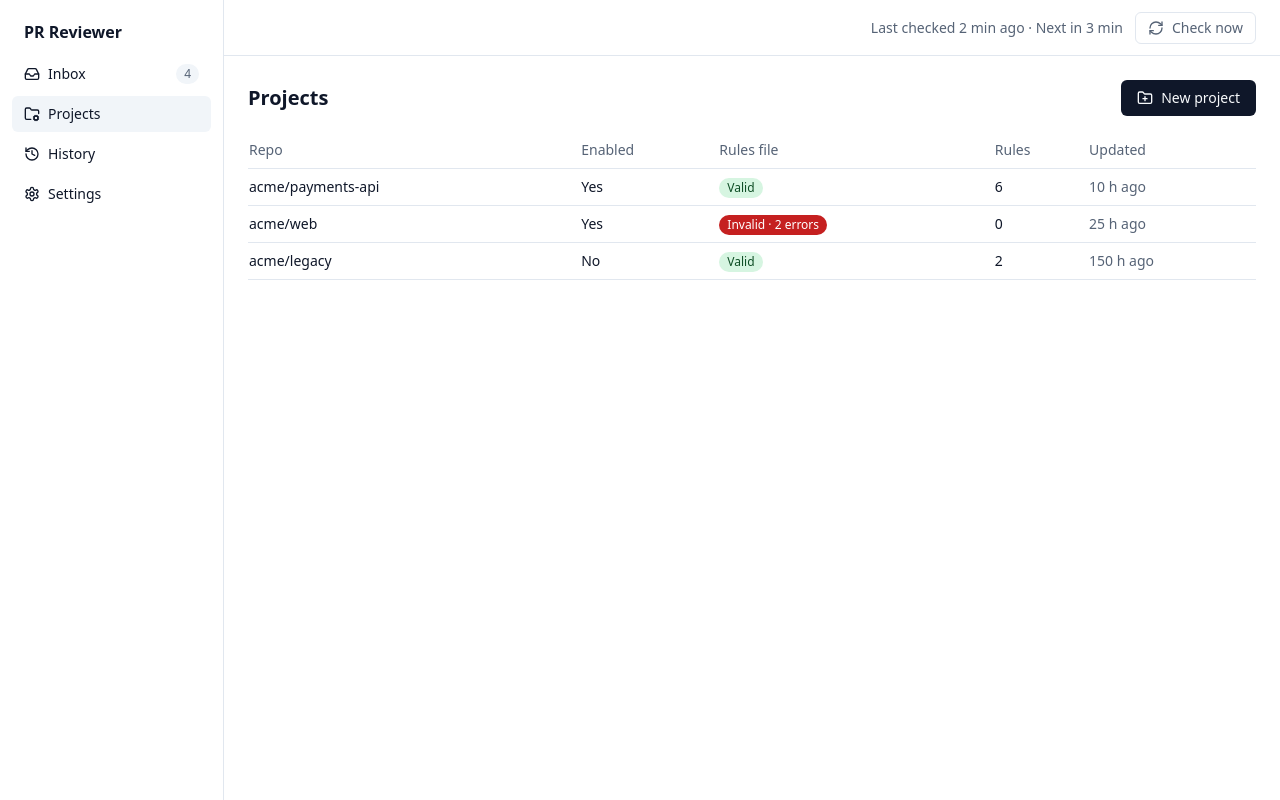
it: Projects › only accepts owner/repo and opens the editor with the template
Click the button "New project": (1189, 98) x1=1121 y1=80 x2=1256 y2=116
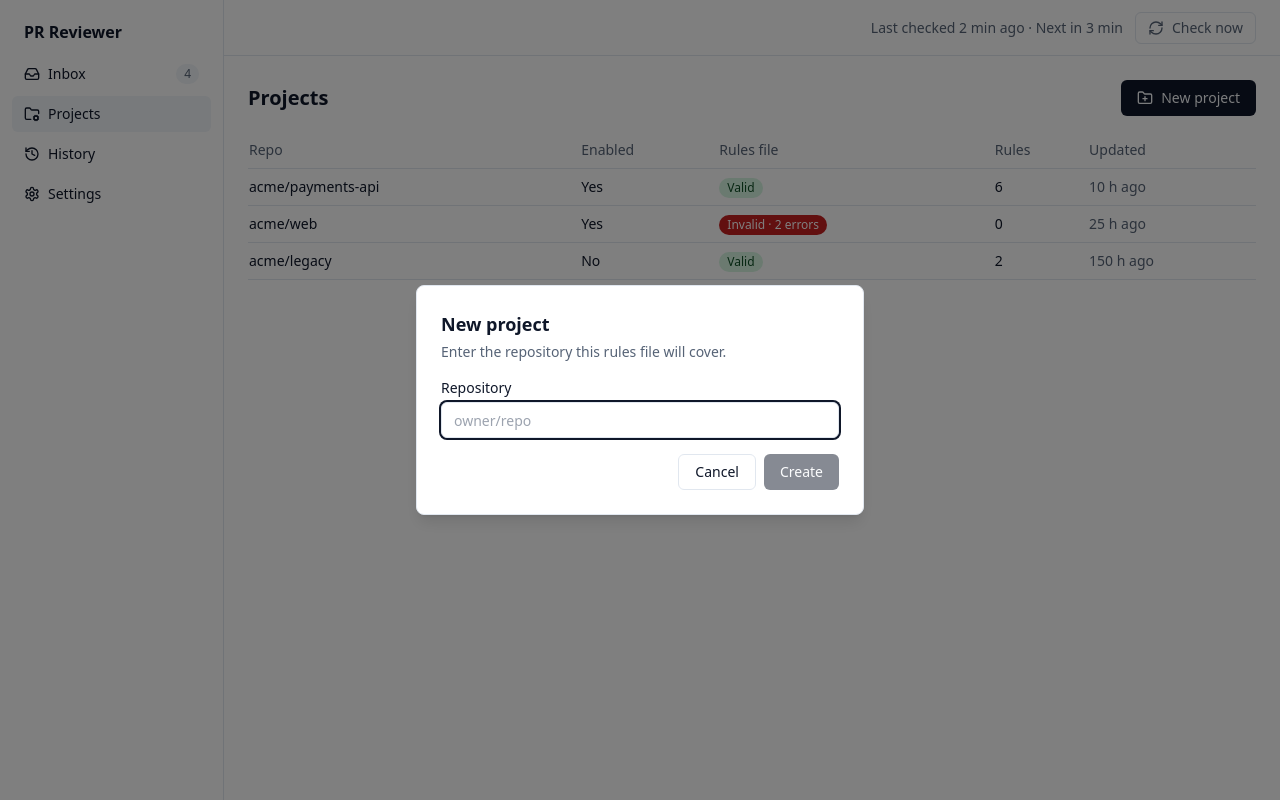
In the field labelled "Repository": (640, 420) x1=441 y1=402 x2=839 y2=438, type "nonsense"
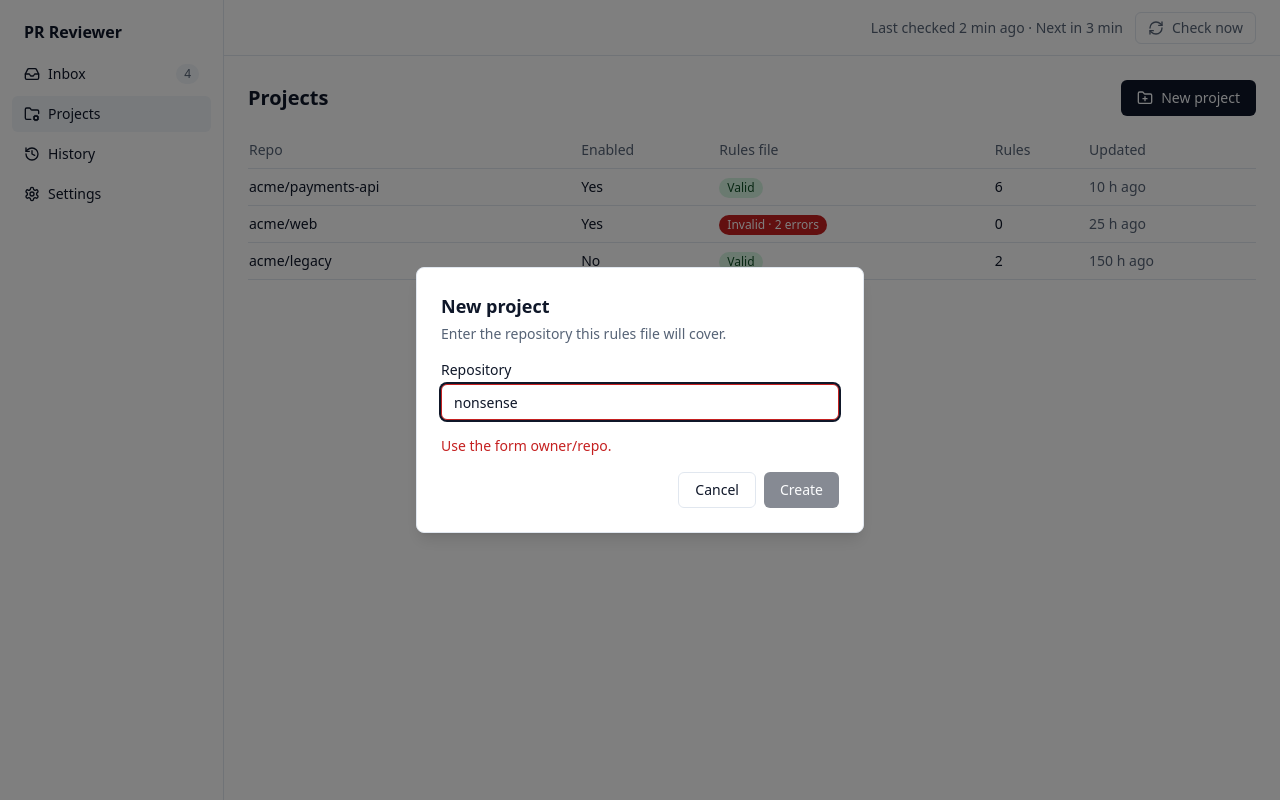
expect the button "Create" is disabled: met, box x1=764 y1=472 x2=839 y2=508
expect the text "Use the form owner/repo." is shown: met, box x1=441 y1=436 x2=612 y2=455
Clear the field labelled "Repository": (640, 402) x1=441 y1=384 x2=839 y2=420
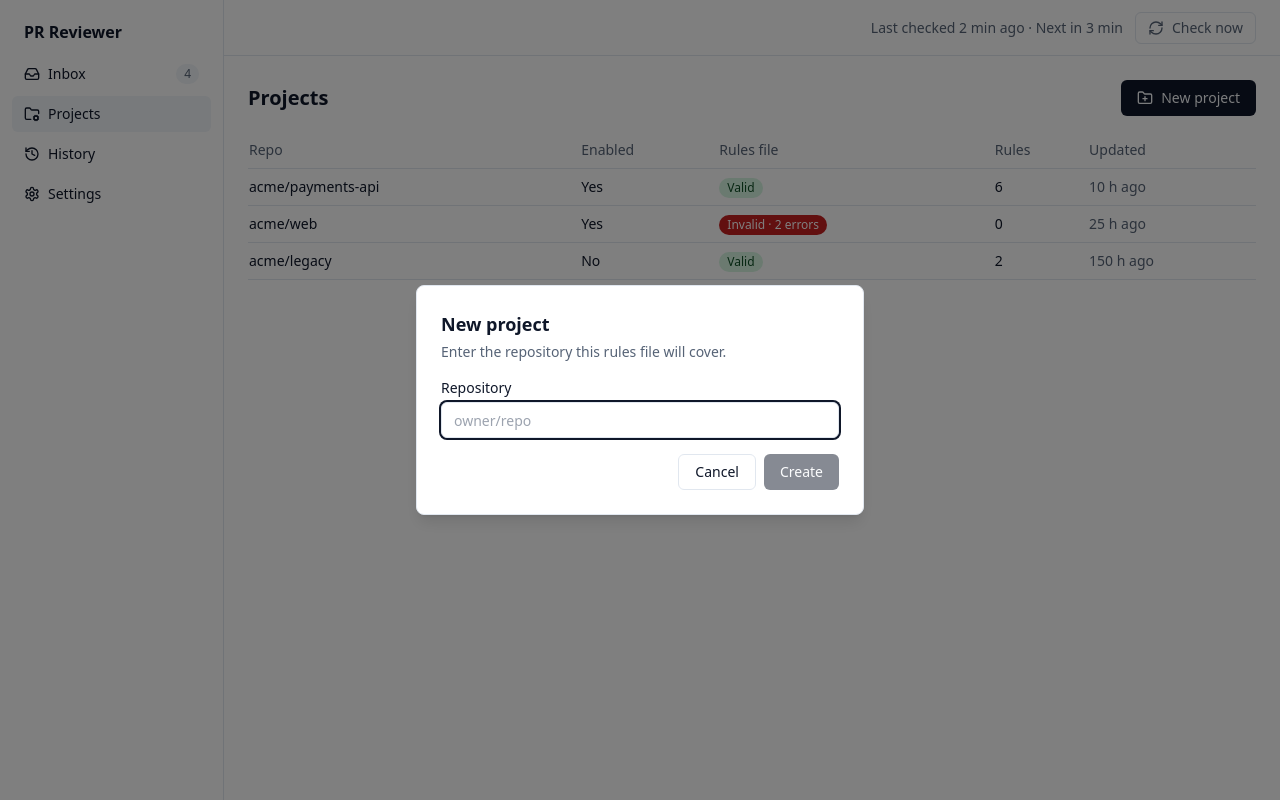
In the field labelled "Repository": (640, 420) x1=441 y1=402 x2=839 y2=438, type "acme/new"
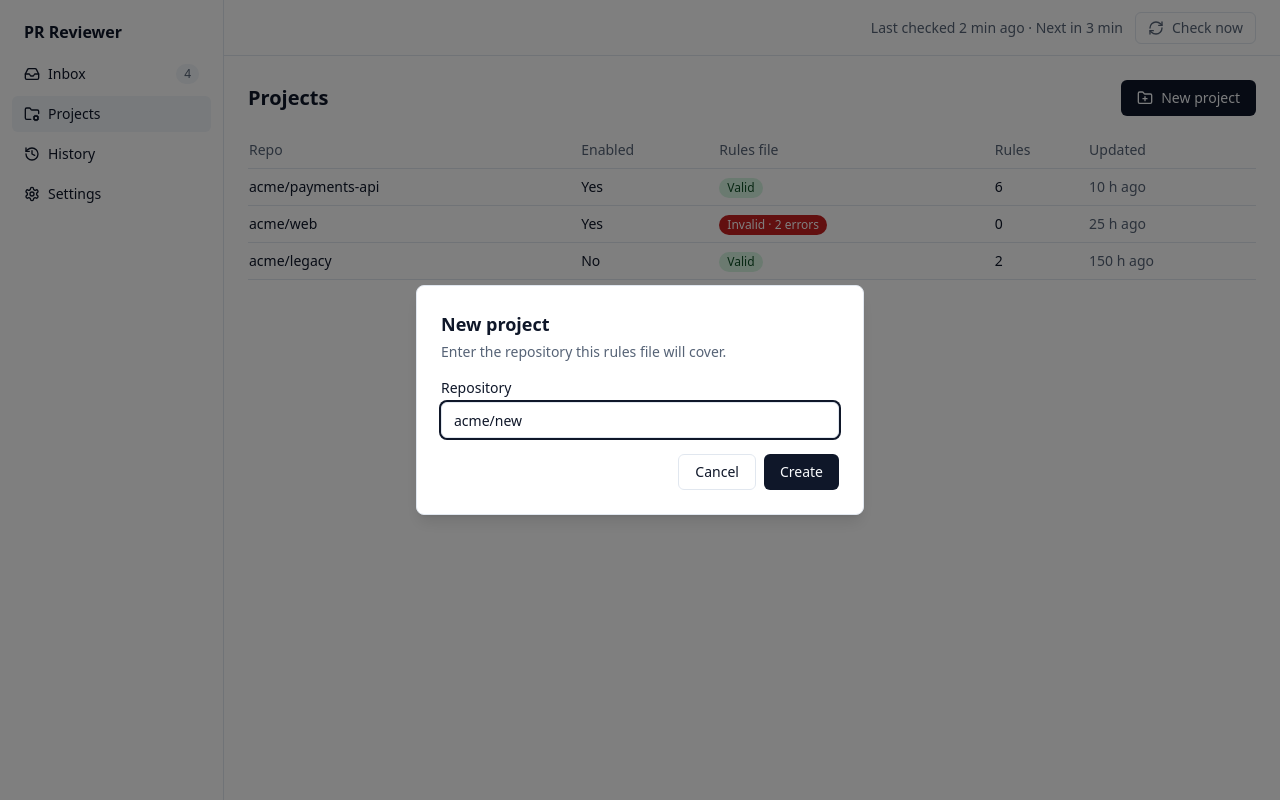
Click the button "Create": (801, 472) x1=764 y1=454 x2=839 y2=490
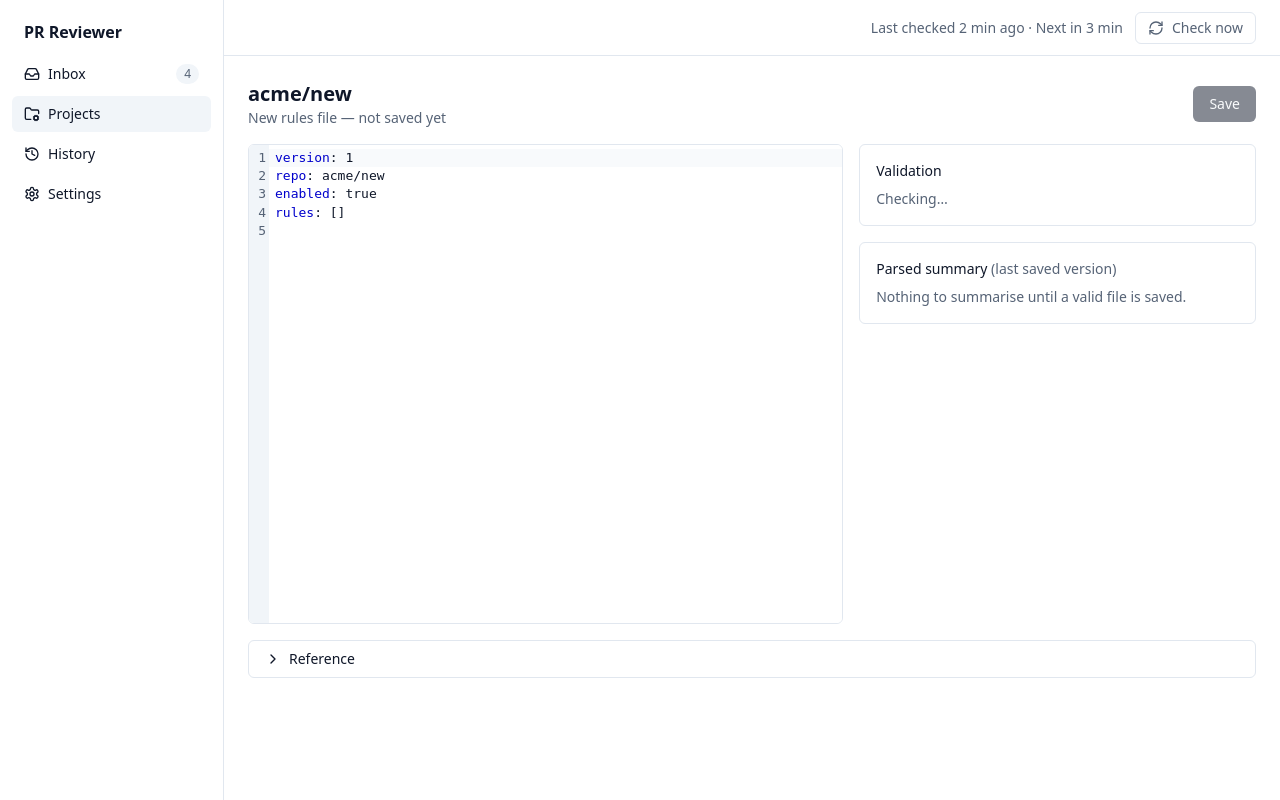
expect the text "New rules file — not saved yet" is shown: met, box x1=248 y1=108 x2=446 y2=128
